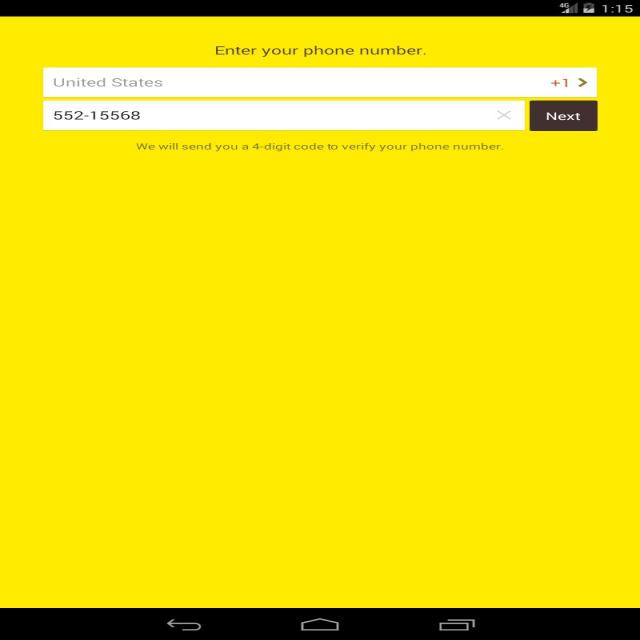button: (532, 100, 596, 131), (550, 71, 588, 90)
field: (46, 65, 593, 96), (46, 100, 525, 128)
heading: (202, 42, 434, 62)
image: (2, 19, 640, 609)
label: (53, 76, 164, 90)
text: (128, 139, 509, 155), (47, 110, 144, 121)
